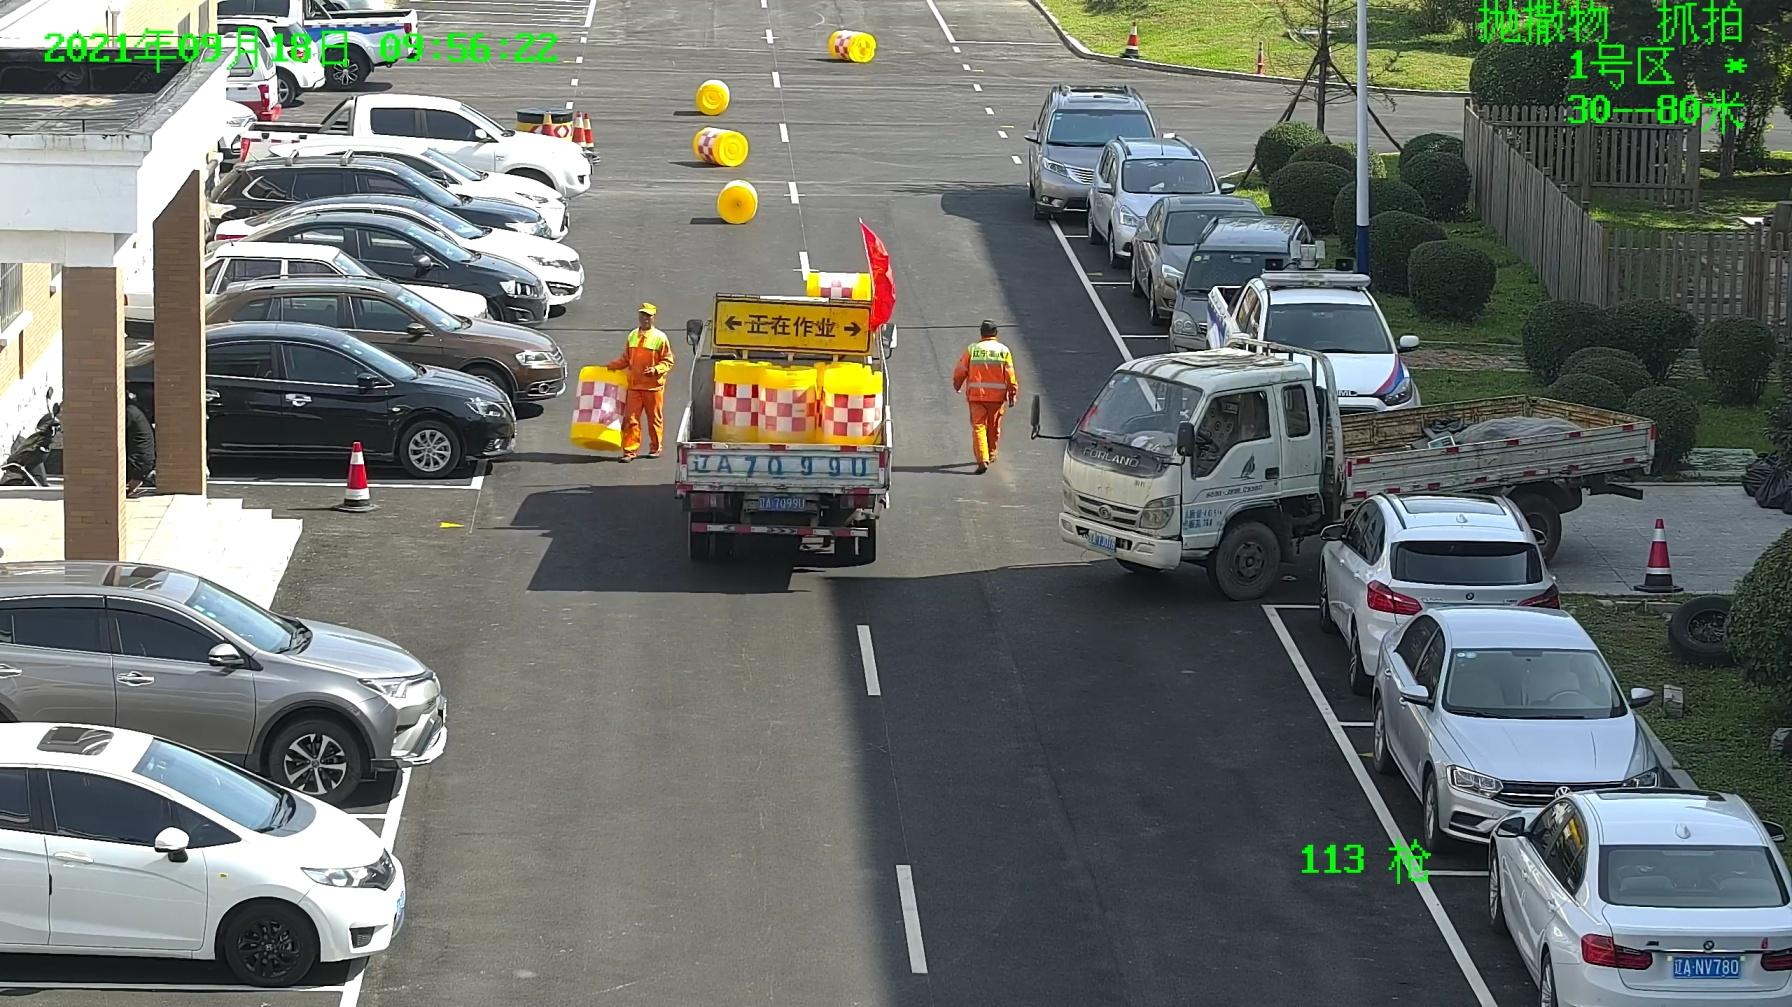cone_barrel: (759, 362, 822, 444), (566, 364, 628, 448), (820, 366, 878, 442), (714, 361, 759, 444), (814, 18, 881, 68), (690, 124, 750, 167), (716, 179, 754, 229), (694, 78, 732, 114)
